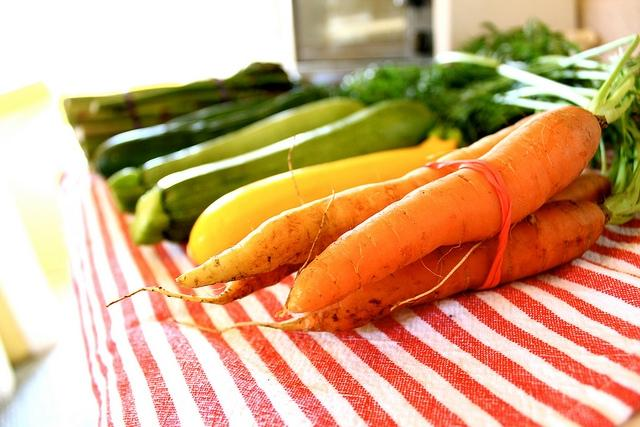carrot: (288, 50, 635, 314), (176, 114, 542, 289), (170, 199, 606, 334), (544, 173, 612, 204)
cucumber: (134, 98, 438, 244), (106, 96, 367, 216), (93, 85, 339, 178)
vegetable marrow: (130, 100, 434, 246), (108, 98, 372, 214), (93, 85, 330, 179)
